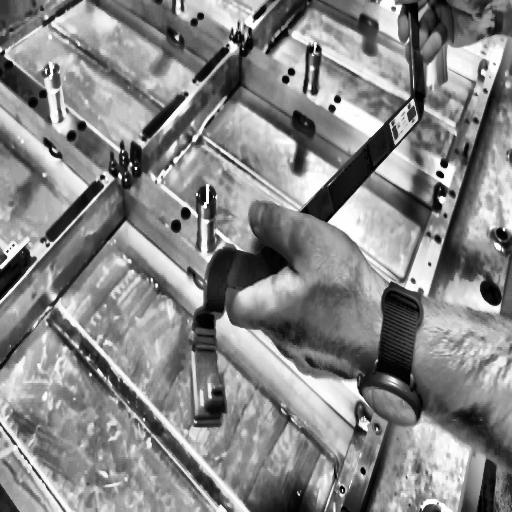busbar: (187, 0, 425, 428)
